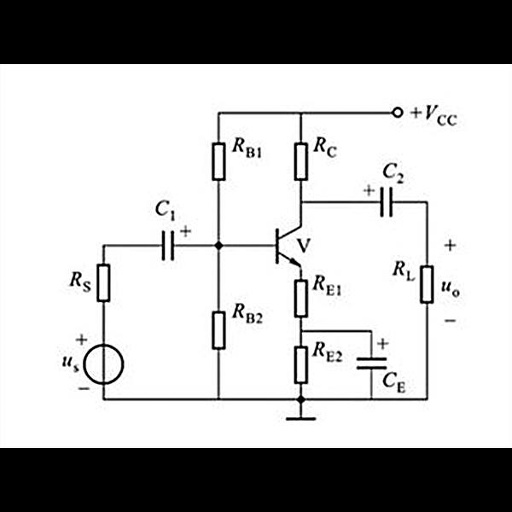firstpolarcapacitor: (155, 223, 197, 263), (360, 182, 397, 220), (355, 337, 392, 372)
firstresistance: (93, 261, 118, 307), (205, 140, 230, 186), (288, 340, 311, 387), (207, 309, 229, 356), (290, 276, 312, 322), (290, 137, 310, 187), (417, 262, 438, 307)
npn: (264, 220, 307, 268)
